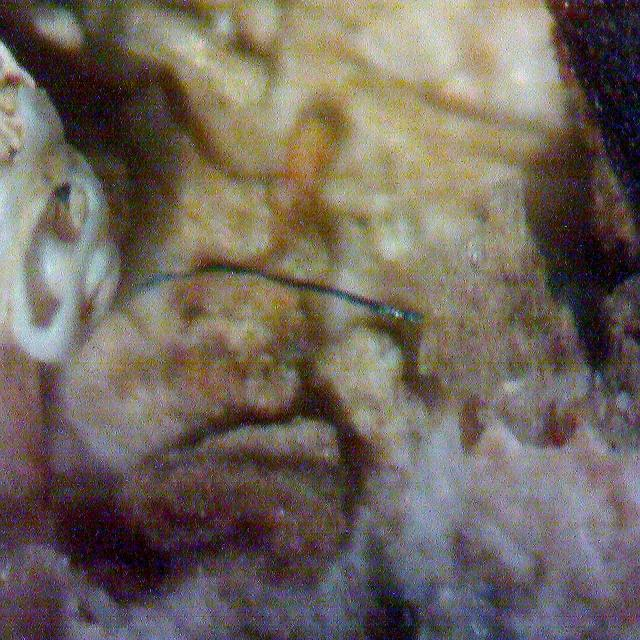microplastic: (133, 261, 427, 324)
